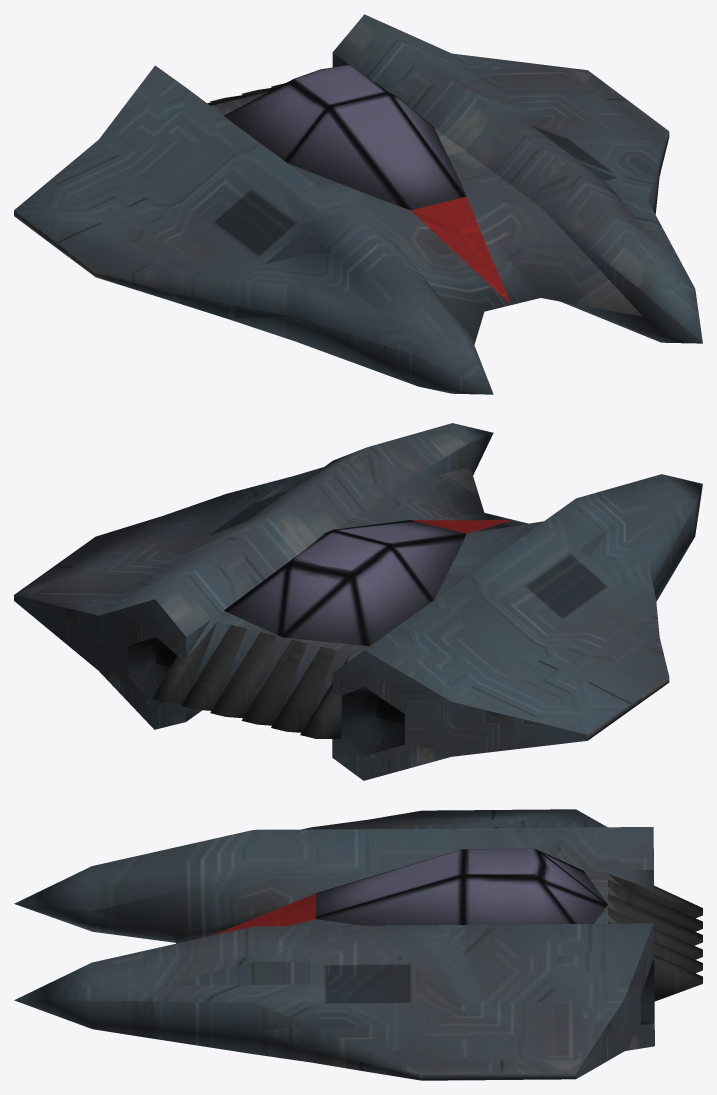
Rendered from sf_fighter1.FBX.
The picture shows the model from 3 angles, top to bottom: view 1: azimuth 30°, elevation 25°; view 2: azimuth 150°, elevation 25°; view 3: azimuth 270°, elevation 25°; orthographic projection. The views are drawn at different scales.
Parts seen in each view (by area): view 1: stand1; view 2: stand1, Object01; view 3: stand1, Object01.
Boxes of the visible parts, x1=… form: stand1: x1=14, y1=14, x2=702, y2=394; stand1: x1=14, y1=423, x2=702, y2=756; Object01: x1=14, y1=595, x2=587, y2=780; stand1: x1=14, y1=809, x2=702, y2=1080; Object01: x1=576, y1=849, x2=654, y2=1078.
Bounding box in the file's own units: 662 × 729 × 169.
1 material, 1 textured.
